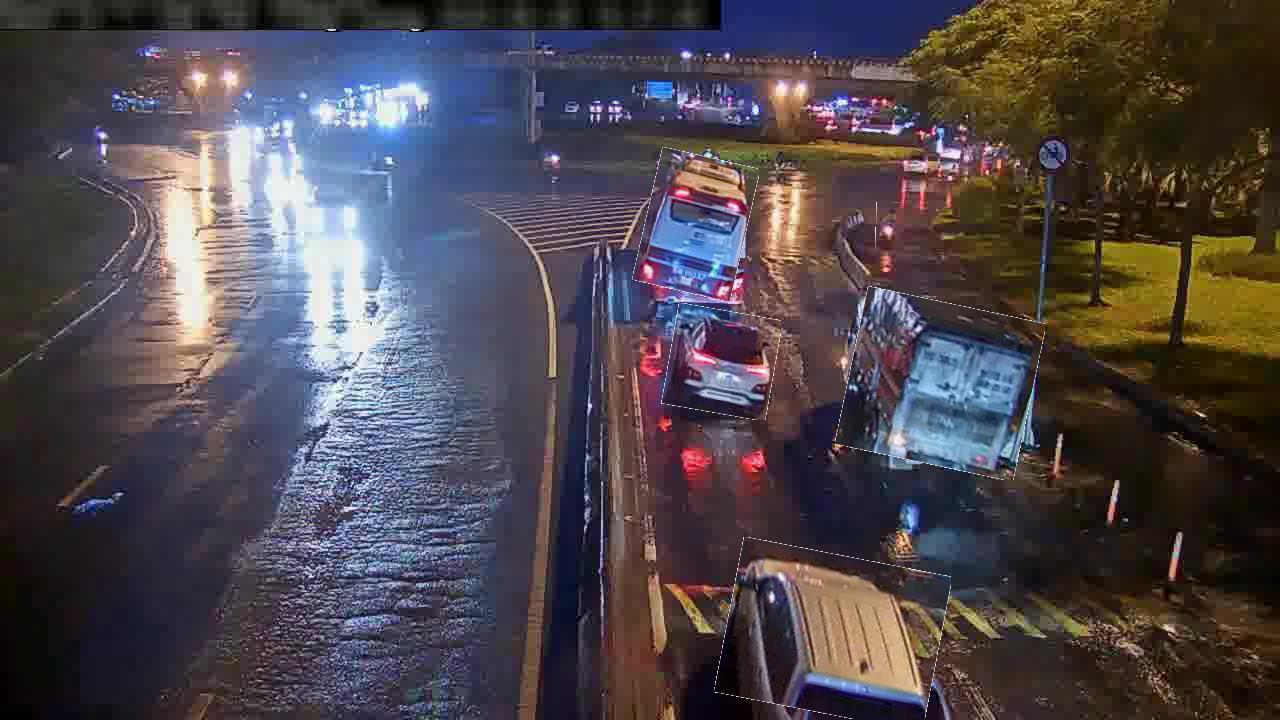14: (639, 152, 753, 298)
8: (843, 295, 1039, 473)
container: (720, 546, 946, 719), (665, 307, 778, 417)
motorbike: (876, 202, 901, 250)
